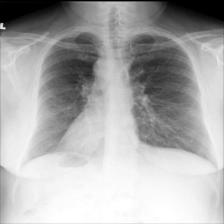normal: (17, 23, 219, 172)
